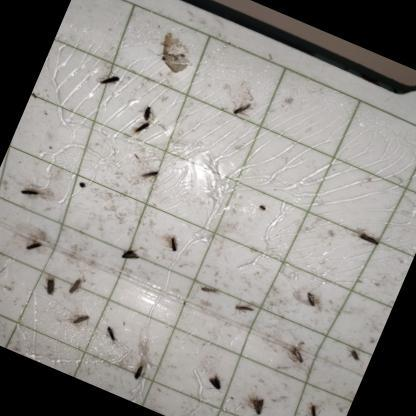prays_oleae: (146, 30, 199, 83), (106, 235, 146, 282), (278, 334, 318, 380), (348, 218, 390, 260), (158, 220, 194, 266), (224, 88, 260, 132), (226, 292, 263, 331), (292, 278, 326, 318), (9, 175, 47, 209), (62, 303, 96, 340), (34, 269, 66, 306), (131, 158, 162, 192), (339, 338, 370, 372), (90, 66, 122, 98), (197, 368, 230, 398), (190, 276, 224, 305), (96, 316, 124, 351), (61, 270, 88, 305), (20, 232, 47, 264), (292, 396, 329, 416), (246, 390, 273, 416), (128, 115, 152, 144), (126, 360, 146, 386), (74, 172, 92, 196), (256, 198, 270, 218)
